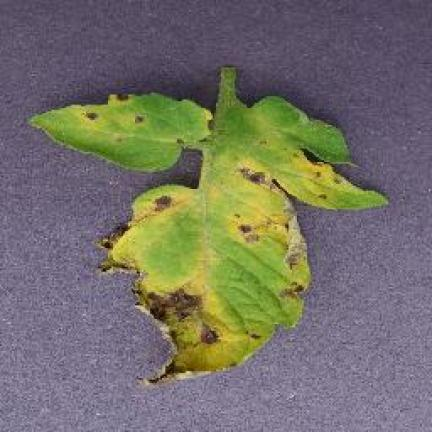leaf: (147, 292, 165, 319)
